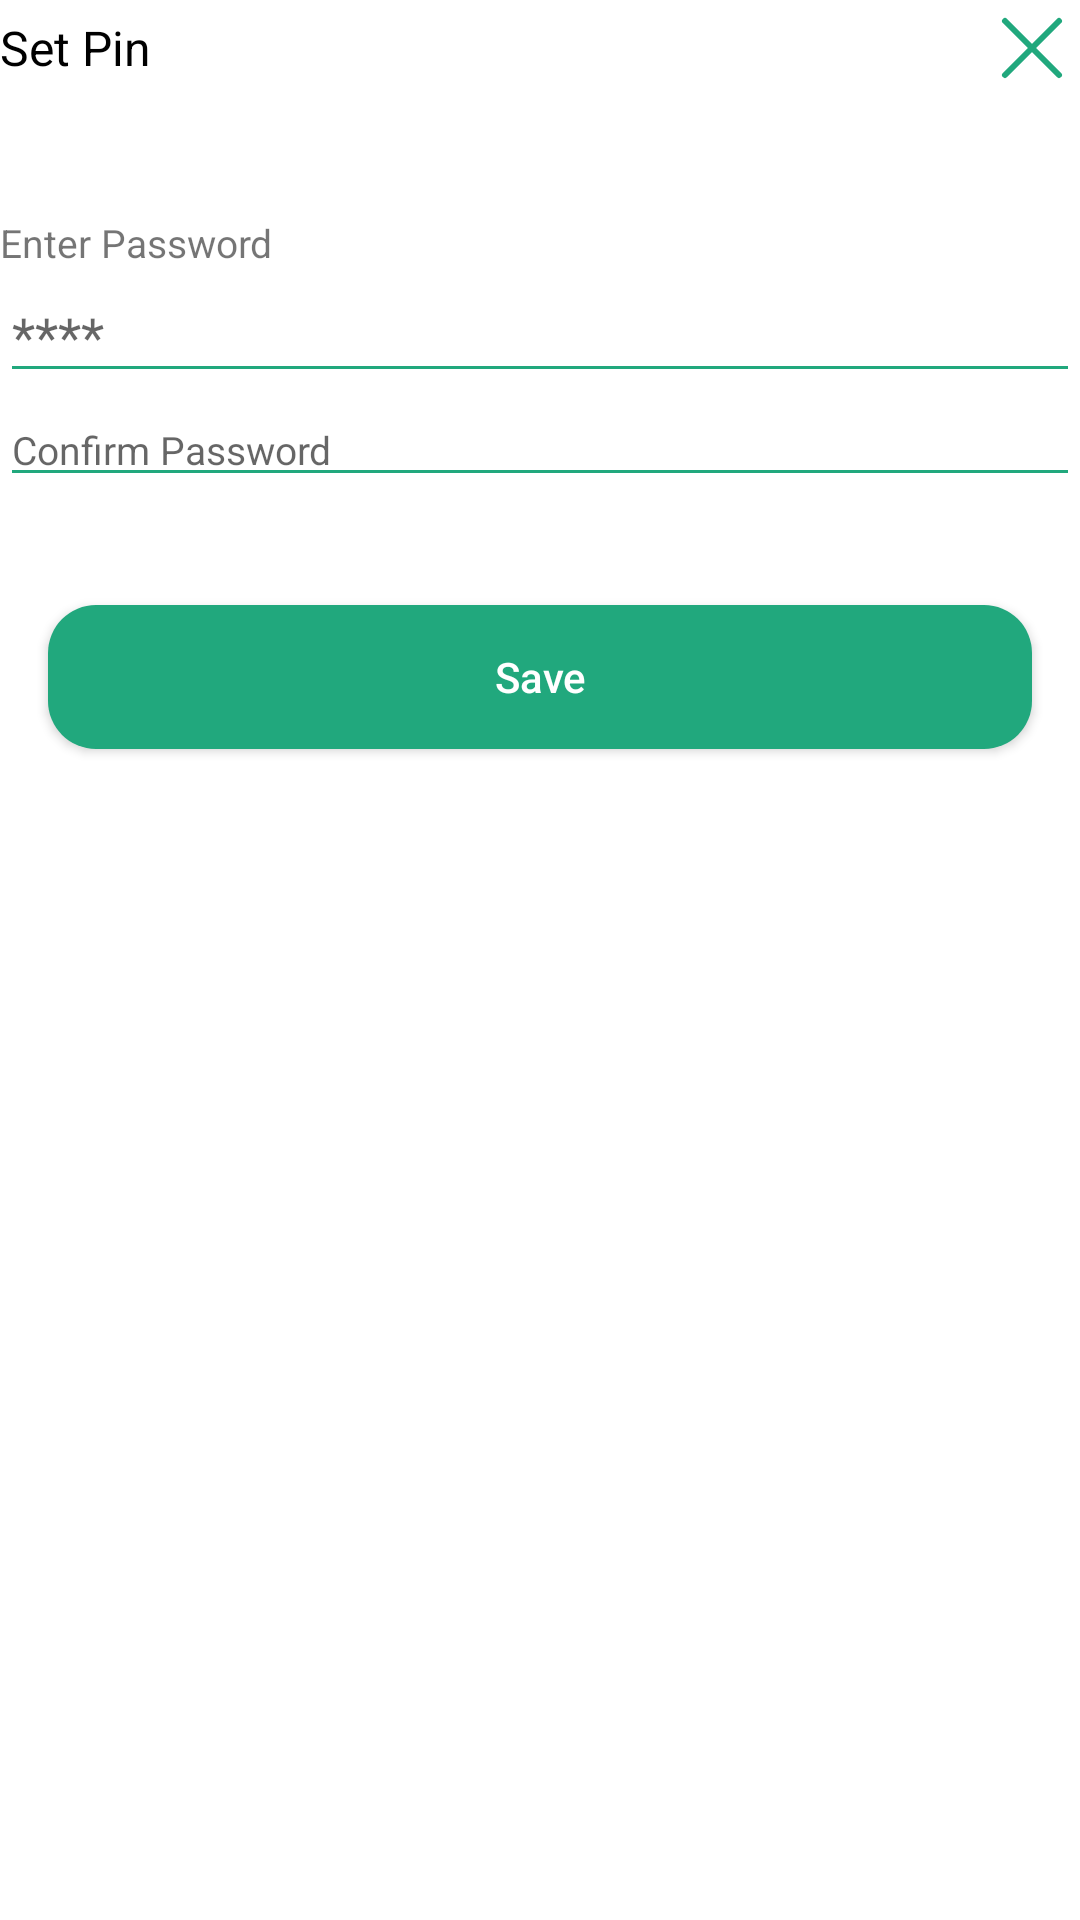

Point at icon controls on the screen. Image size 1080x1920, points as (x,y).
cross: (1032,47)
